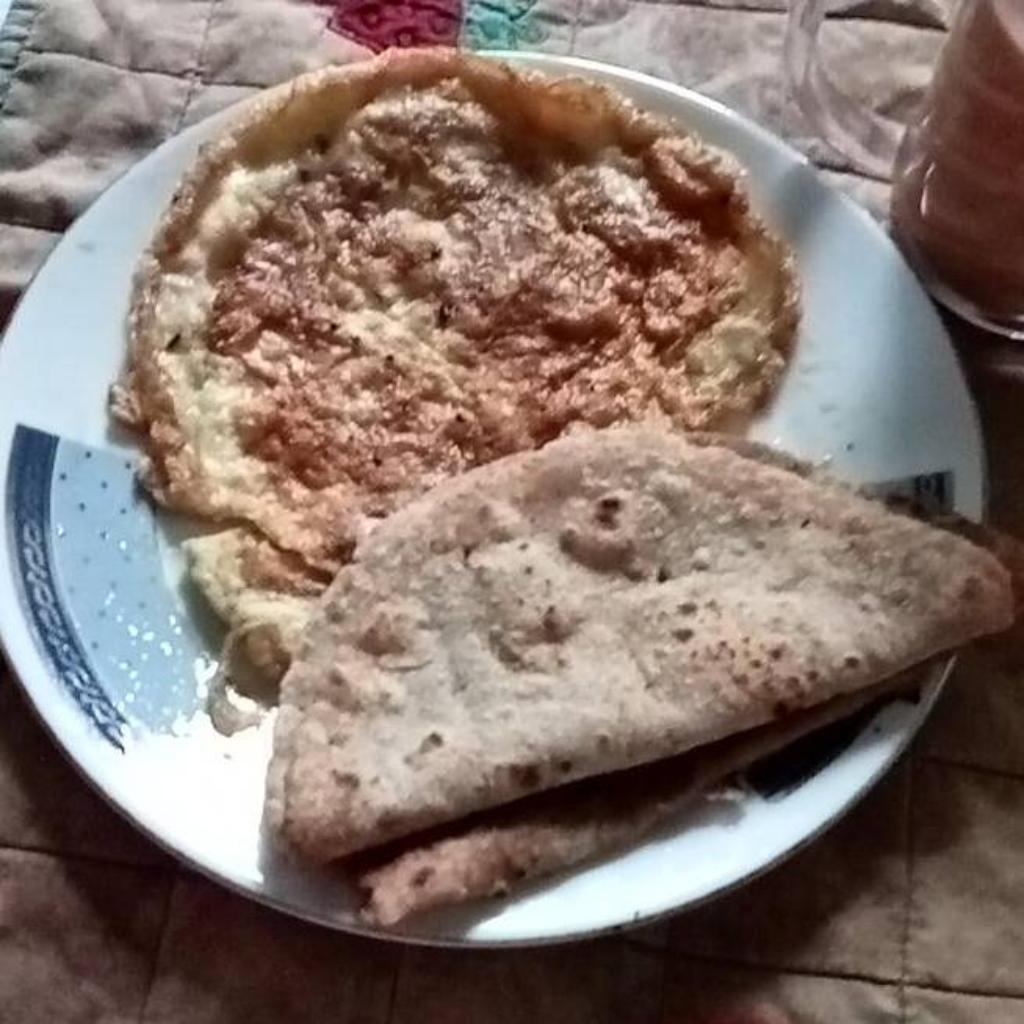egg-poached: (110, 49, 799, 684)
ruti: (268, 431, 1022, 927)
